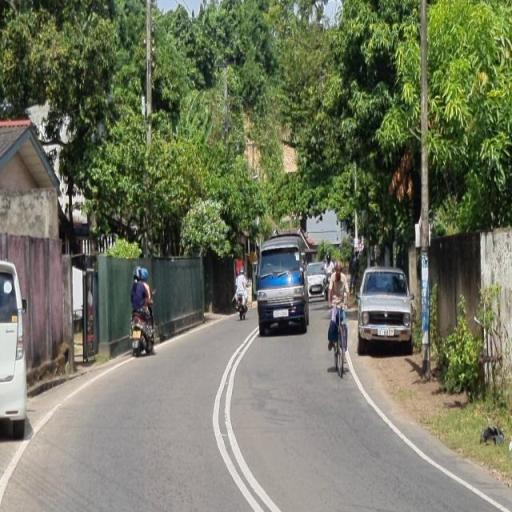double_white_line: (213, 325, 278, 511)
